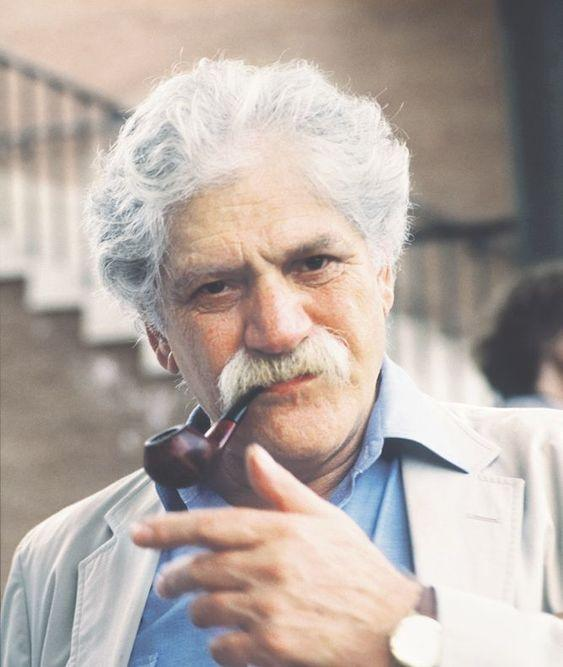trubka: (142, 383, 269, 491)
